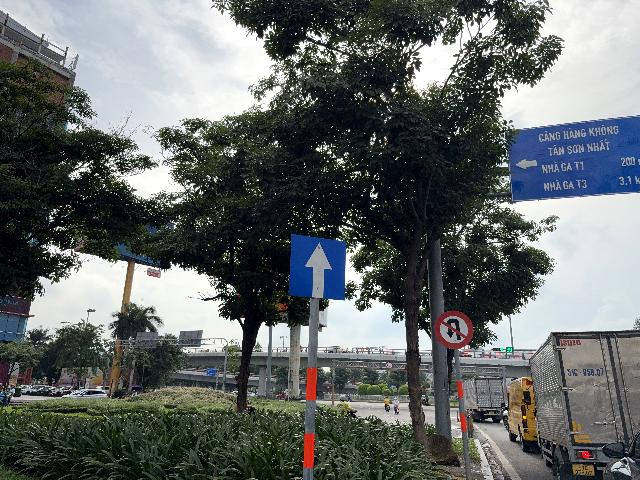cam-quay-dau-xe: (434, 310, 474, 349)
duong-mot-chieu: (288, 233, 347, 300)
